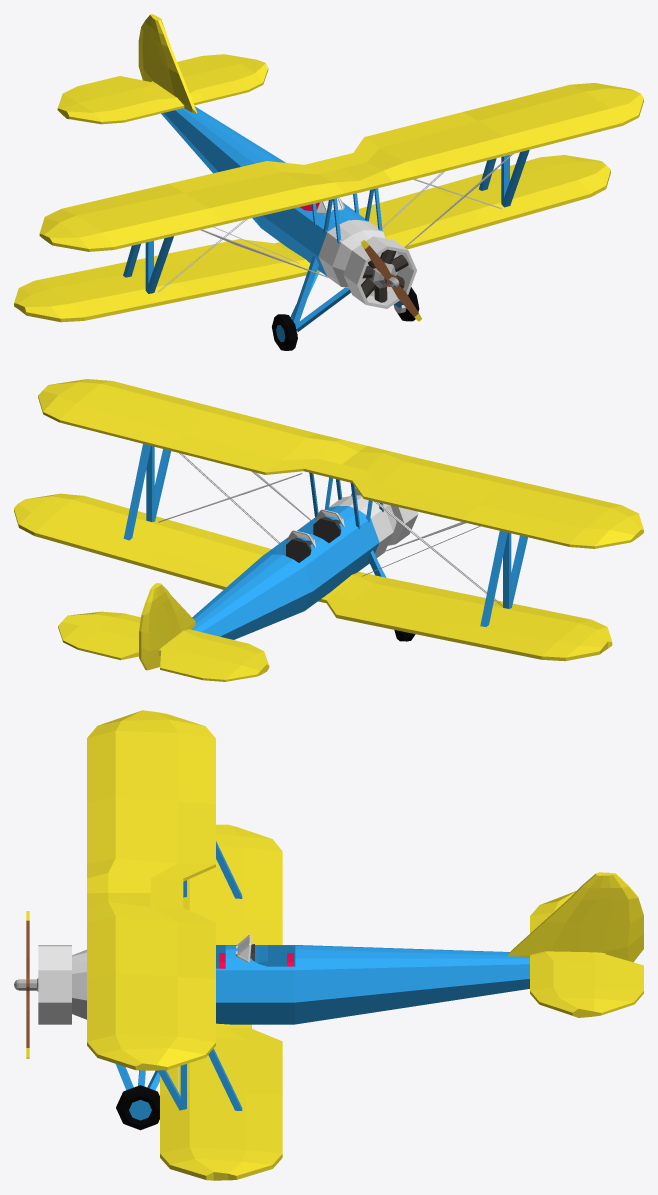
File: avro_cadet.fbx
The picture shows the model from 3 angles, top to bottom: view 1: azimuth 30°, elevation 25°; view 2: azimuth 150°, elevation 25°; view 3: azimuth 270°, elevation 25°; orthographic projection. The views are drawn at different scales.
Visible parts, largest first — view 1: Fuselage.001, Elevator, Rudder, Aileron Top Left, Aileron Top Right, Aileron Bottom Right, Aileron Bottom Left, Wheels, Propeller; view 2: Fuselage.001, Elevator, Aileron Top Left, Aileron Bottom Left, Aileron Top Right, Rudder, Aileron Bottom Right; view 3: Fuselage.001, Rudder, Aileron Bottom Right, Aileron Top Right, Elevator, Aileron Top Left, Aileron Bottom Left, Wheels, Propeller.
Part boxes in pixels (x1,y1,x2,y2): Fuselage.001: (14, 60, 643, 335); Elevator: (57, 54, 258, 112); Rudder: (138, 14, 181, 87); Aileron Top Left: (462, 85, 584, 120); Aileron Top Right: (61, 184, 183, 215); Aileron Bottom Right: (35, 259, 154, 288); Aileron Bottom Left: (434, 157, 554, 196); Wheels: (272, 287, 419, 350); Propeller: (360, 240, 421, 321); Fuselage.001: (14, 379, 643, 674); Elevator: (58, 622, 260, 681); Aileron Top Left: (59, 404, 182, 449); Aileron Bottom Left: (34, 519, 156, 566); Aileron Top Right: (462, 505, 584, 546); Rudder: (139, 583, 181, 670); Aileron Bottom Right: (434, 621, 556, 659); Fuselage.001: (37, 710, 605, 1180); Rudder: (545, 872, 643, 962); Aileron Bottom Right: (245, 848, 282, 920); Aileron Top Right: (178, 733, 215, 803); Elevator: (593, 953, 643, 1016); Aileron Top Left: (178, 976, 215, 1042); Aileron Bottom Left: (245, 1092, 282, 1153); Wheels: (116, 1085, 159, 1130); Propeller: (14, 911, 36, 1058).
Size of the model in its own units: 1012 by 293 by 763.
